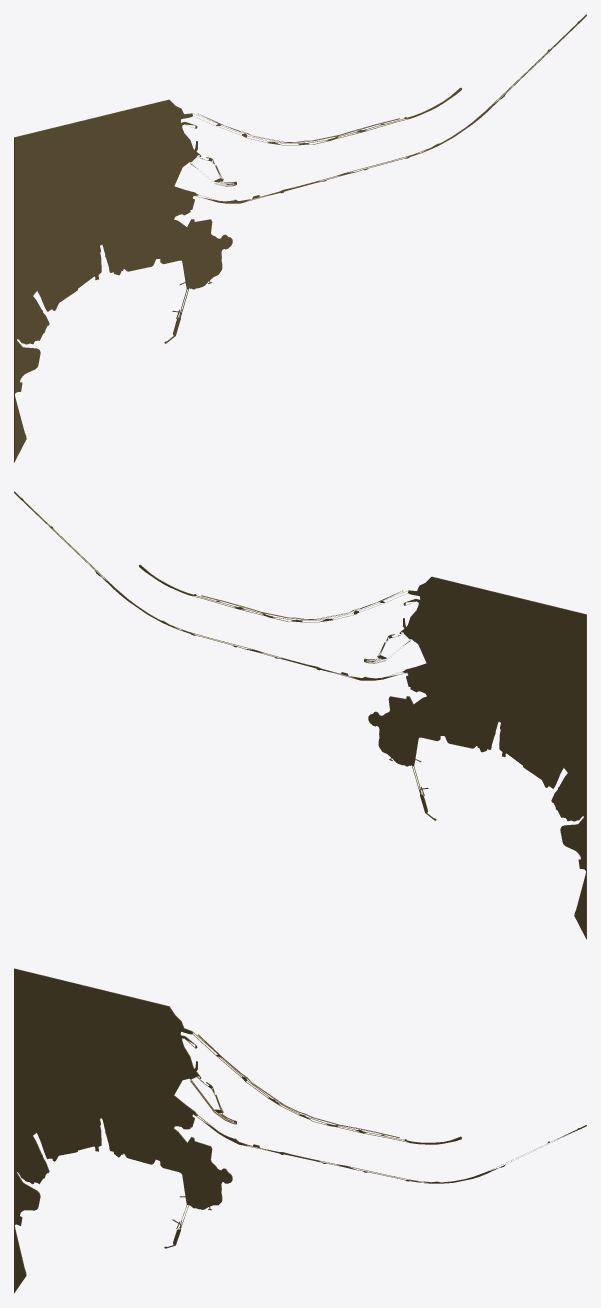
Rendered from chart_obstacle_001.obj.
The picture shows the model from 3 angles, top to bottom: view 1: azimuth 30°, elevation 25°; view 2: azimuth 150°, elevation 25°; view 3: azimuth 330°, elevation 25°; orthographic projection.
Parts seen in each view (by area): view 1: chart_obstacle_001; view 2: chart_obstacle_001; view 3: chart_obstacle_001.
Boxes of the visible parts, x1=… form: chart_obstacle_001: x1=14, y1=14, x2=586, y2=462; chart_obstacle_001: x1=14, y1=491, x2=586, y2=939; chart_obstacle_001: x1=14, y1=968, x2=586, y2=1293.
Size of the model in its own units: 5002 by 2711 by 8.
